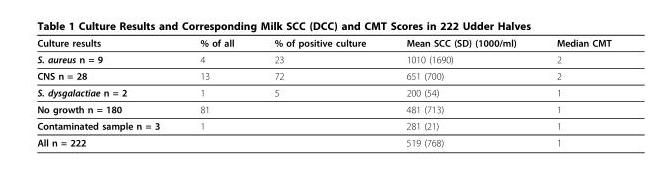table: (36, 36, 610, 147)
table column: (385, 36, 535, 147), (36, 36, 179, 147), (253, 36, 385, 147), (535, 36, 610, 147), (179, 36, 253, 147)
table column header: (36, 36, 610, 50)
table row: (36, 50, 610, 67), (36, 83, 610, 100), (36, 100, 610, 117), (36, 67, 610, 83), (36, 117, 610, 133), (36, 36, 610, 50), (36, 133, 610, 147)
